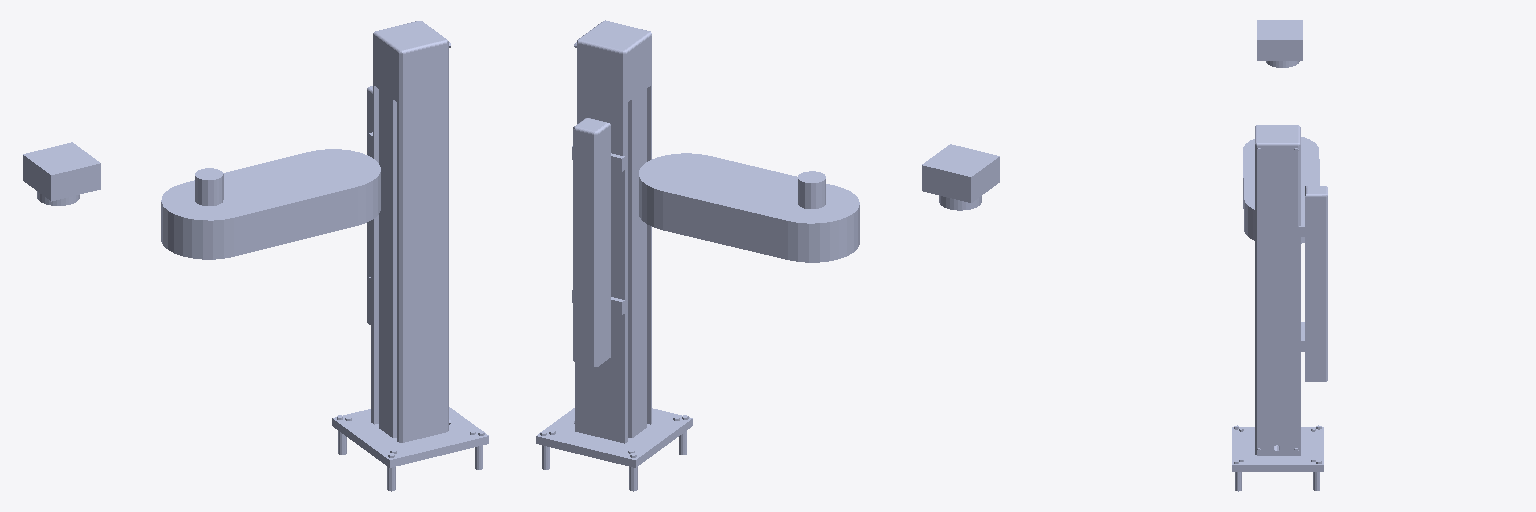
The robot description file, URDF, robot "arm":
<?xml version="1.0" encoding="utf-8"?>
<!-- This URDF was automatically created by SolidWorks to URDF Exporter! Originally created by [author] ([email redacted]) 
     Commit Version: 1.6.0-1-g15f4949  Build Version: 1.6.7594.29634
     For more information, please see http://wiki.ros.org/sw_urdf_exporter -->
<robot
  name="arm">
  <link
    name="base_link">
    <inertial>
      <origin
        xyz="0.539765261309699 0.23426416169519 0.700280661251126"
        rpy="0 0 0" />
      <mass
        value="49.4805902897861" />
      <inertia
        ixx="11.5196552629045"
        ixy="0.0229907903841588"
        ixz="-0.0161473992043305"
        iyy="0.667865153846902"
        iyz="0.0805496666361857"
        izz="11.3301879081771" />
    </inertial>
    <visual>
      <origin
        xyz="0 0 0"
        rpy="0 0 0" />
      <geometry>
        <mesh
          filename="package://arm/meshes/base_link.STL" />
      </geometry>
      <material
        name="">
        <color
          rgba="0.792156862745098 0.819607843137255 0.933333333333333 1" />
      </material>
    </visual>
    <collision>
      <origin
        xyz="0 0 0"
        rpy="0 0 0" />
      <geometry>
        <mesh
          filename="package://arm/meshes/base_link.STL" />
      </geometry>
    </collision>
  </link>
  <link
    name="link1">
    <inertial>
      <origin
        xyz="0.0546950645196006 0.0857393508051499 1.11022302462516E-16"
        rpy="0 0 0" />
      <mass
        value="9.14159265358979" />
      <inertia
        ixx="0.0539212362194922"
        ixy="0.0053696754025749"
        ixz="-2.1267884946016E-18"
        iyy="0.0854151878954083"
        iyz="2.67123010769902E-18"
        izz="0.0865737039596919" />
    </inertial>
    <visual>
      <origin
        xyz="0 0 0"
        rpy="0 0 0" />
      <geometry>
        <mesh
          filename="package://arm/meshes/link1.STL" />
      </geometry>
      <material
        name="">
        <color
          rgba="0.792156862745098 0.819607843137255 0.933333333333333 1" />
      </material>
    </visual>
    <collision>
      <origin
        xyz="0 0 0"
        rpy="0 0 0" />
      <geometry>
        <mesh
          filename="package://arm/meshes/link1.STL" />
      </geometry>
    </collision>
  </link>
  <joint
    name="joint1"
    type="prismatic">
    <origin
      xyz="0.23491 -0.71189 0.25792"
      rpy="1.5708 0 0" />
    <parent
      link="base_link" />
    <child
      link="link1" />
    <axis
      xyz="0 1 0" />
    <limit
      lower="0"
      upper="0"
      effort="0"
      velocity="0" />
  </joint>
  <link
    name="link2">
    <inertial>
      <origin
        xyz="-0.260309776772944 0.0780929330318832 1.11022302462516E-16"
        rpy="0 0 0" />
      <mass
        value="38.0899693899575" />
      <inertia
        ixx="0.405219334158239"
        ixy="0.0184203621235601"
        ixz="-4.64038529823796E-17"
        iyy="2.21115735519494"
        iyz="-8.34835672813838E-18"
        izz="1.97160859597414" />
    </inertial>
    <visual>
      <origin
        xyz="0 0 0"
        rpy="0 0 0" />
      <geometry>
        <mesh
          filename="package://arm/meshes/link2.STL" />
      </geometry>
      <material
        name="">
        <color
          rgba="0.792156862745098 0.819607843137255 0.933333333333333 1" />
      </material>
    </visual>
    <collision>
      <origin
        xyz="0 0 0"
        rpy="0 0 0" />
      <geometry>
        <mesh
          filename="package://arm/meshes/link2.STL" />
      </geometry>
    </collision>
  </link>
  <joint
    name="joint2"
    type="continuous">
    <origin
      xyz="0 0.15 0"
      rpy="0 0.011092 0" />
    <parent
      link="link1" />
    <child
      link="link2" />
    <axis
      xyz="0 1 0" />
  </joint>
  <link
    name="link3">
    <inertial>
      <origin
        xyz="-0.315834860391571 0.0776391433985952 7.7715611723761E-16"
        rpy="0 0 0" />
      <mass
        value="22.319689898686" />
      <inertia
        ixx="0.11682923728881"
        ixy="0.00495773595529125"
        ixz="2.72806950640803E-15"
        iyy="1.1262466603104"
        iyz="-1.12011636944909E-17"
        izz="1.10000482654941" />
    </inertial>
    <visual>
      <origin
        xyz="0 0 0"
        rpy="0 0 0" />
      <geometry>
        <mesh
          filename="package://arm/meshes/link3.STL" />
      </geometry>
      <material
        name="">
        <color
          rgba="0.792156862745098 0.819607843137255 0.933333333333333 1" />
      </material>
    </visual>
    <collision>
      <origin
        xyz="0 0 0"
        rpy="0 0 0" />
      <geometry>
        <mesh
          filename="package://arm/meshes/link3.STL" />
      </geometry>
    </collision>
  </link>
  <joint
    name="joint3"
    type="continuous">
    <origin
      xyz="-0.5 0.15 0"
      rpy="0 -0.022487 0" />
    <parent
      link="link2" />
    <child
      link="link3" />
    <axis
      xyz="0 1 0" />
  </joint>
  <link
    name="link_gripper">
    <inertial>
      <origin
        xyz="0.0054114904786009 0.0918021436091223 0.0113805192509809"
        rpy="0 0 0" />
      <mass
        value="4.49087385212341" />
      <inertia
        ixx="0.0202967545713154"
        ixy="-0.000199226938271995"
        ixz="-3.3940617528459E-05"
        iyy="0.0287483587037319"
        iyz="-0.000418979949292022"
        izz="0.0202415154053278" />
    </inertial>
    <visual>
      <origin
        xyz="0 0 0"
        rpy="0 0 0" />
      <geometry>
        <mesh
          filename="package://arm/meshes/link_gripper.STL" />
      </geometry>
      <material
        name="">
        <color
          rgba="0.792156862745098 0.819607843137255 0.933333333333333 1" />
      </material>
    </visual>
    <collision>
      <origin
        xyz="0 0 0"
        rpy="0 0 0" />
      <geometry>
        <mesh
          filename="package://arm/meshes/link_gripper.STL" />
      </geometry>
    </collision>
  </link>
  <joint
    name="joint_gripper"
    type="continuous">
    <origin
      xyz="-0.6 0.15 0"
      rpy="0 0.011395 0" />
    <parent
      link="link3" />
    <child
      link="link_gripper" />
    <axis
      xyz="0 1 0" />
  </joint>
</robot>

--- Render facts (derived) ---
The picture shows the robot from 3 angles, left to right: view 1: azimuth 30°, elevation 25°; view 2: azimuth 150°, elevation 25°; view 3: azimuth 270°, elevation 25°; orthographic projection.
Robot: arm — 5 links, 4 joints (3 continuous, 1 prismatic); root link base_link; default pose: all joints at 0.
Links seen in each view (by area): view 1: base_link, link2, link_gripper; view 2: base_link, link2, link_gripper; view 3: base_link, link2, link_gripper.
Boxes of the visible links, box(x1,y1,x2,y2) form: base_link: box(332, 21, 488, 491); link2: box(161, 149, 380, 259); link_gripper: box(23, 142, 100, 205); base_link: box(536, 20, 692, 491); link2: box(639, 153, 859, 262); link_gripper: box(922, 144, 999, 210); base_link: box(1232, 125, 1327, 491); link2: box(1243, 137, 1319, 243); link_gripper: box(1257, 20, 1302, 67).
Size in the robot's own frame: 1.69 by 0.42 by 1.63 metres.
Meshes: 5 distinct files referenced, 3 mesh visuals loaded (3 binary STL); not drawn: 2 (reference not matched to a file when rendering).